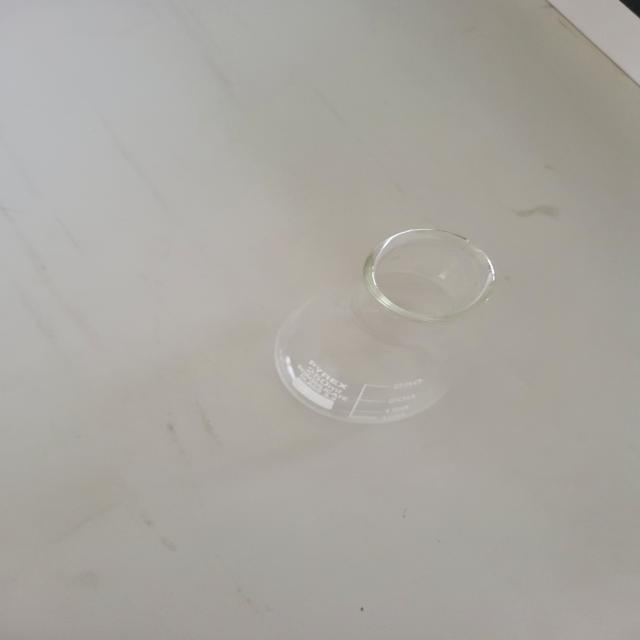Conical_Flask: (255, 215, 540, 447)
